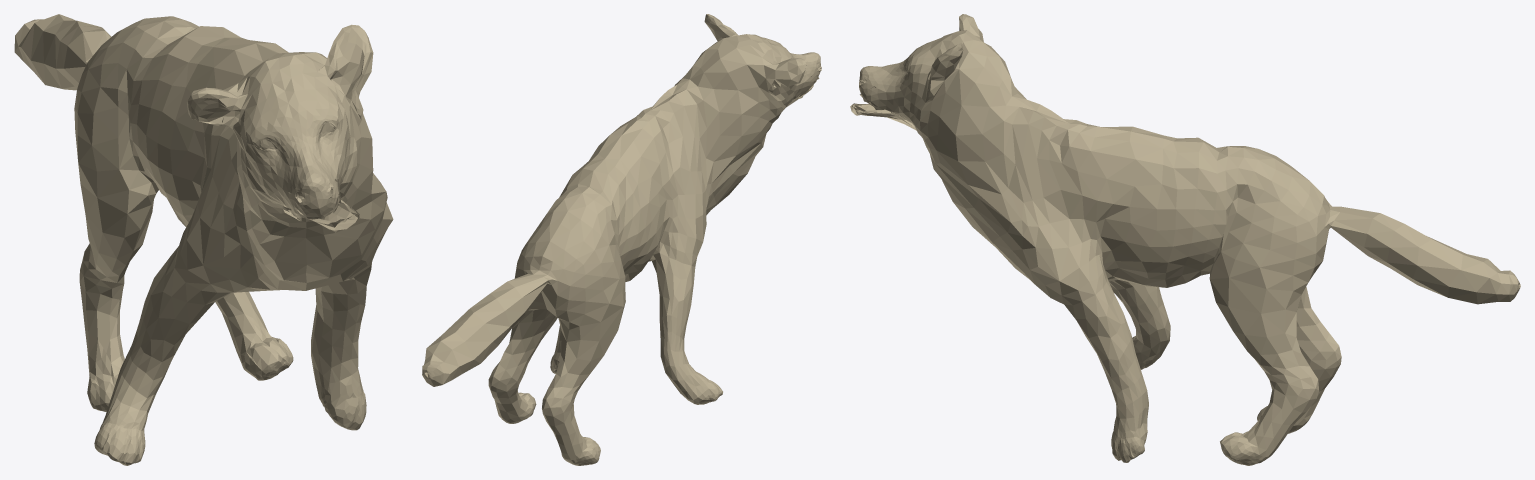
3 views of the same model, side by side, from view 1: azimuth 30°, elevation 25°; view 2: azimuth 150°, elevation 25°; view 3: azimuth 270°, elevation 25° (orthographic). The views are drawn at different scales.
Parts seen in each view (by area): view 1: world; view 2: world; view 3: world.
Boxes of the visible parts, x1,y1,x2,y2 form: world: (14,14,393,465); world: (422,14,821,465); world: (850,14,1520,465).
Bounding box in the file's own units: 0.474 × 0.8508 × 1.31.
